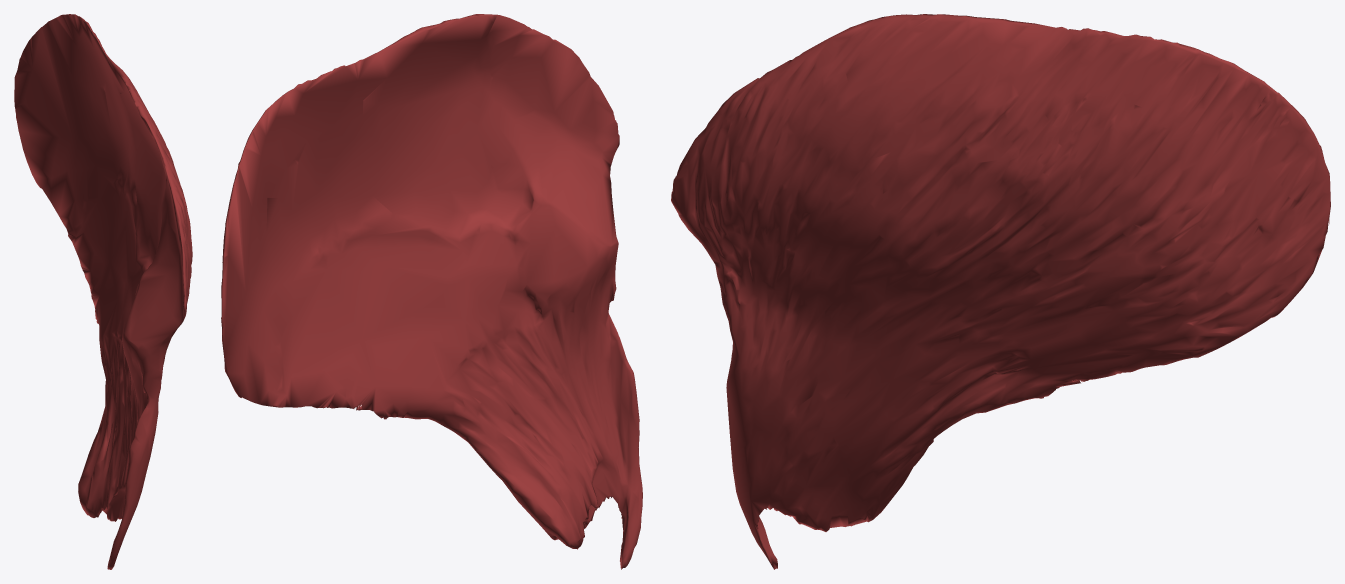
File: temporalis-muscle-l.glb
The picture shows the model from 3 angles, left to right: view 1: azimuth 30°, elevation 25°; view 2: azimuth 150°, elevation 25°; view 3: azimuth 270°, elevation 25°; orthographic projection. The views are drawn at different scales.
Parts seen in each view (by area): view 1: Temporalis muscle.l; view 2: Temporalis muscle.l; view 3: Temporalis muscle.l.
Boxes of the visible parts, bbox=[...] form: Temporalis muscle.l: bbox=[14, 14, 192, 569]; Temporalis muscle.l: bbox=[221, 14, 642, 569]; Temporalis muscle.l: bbox=[671, 14, 1330, 569].
Size of the model in its own units: 0.0391 by 0.116 by 0.1139.
